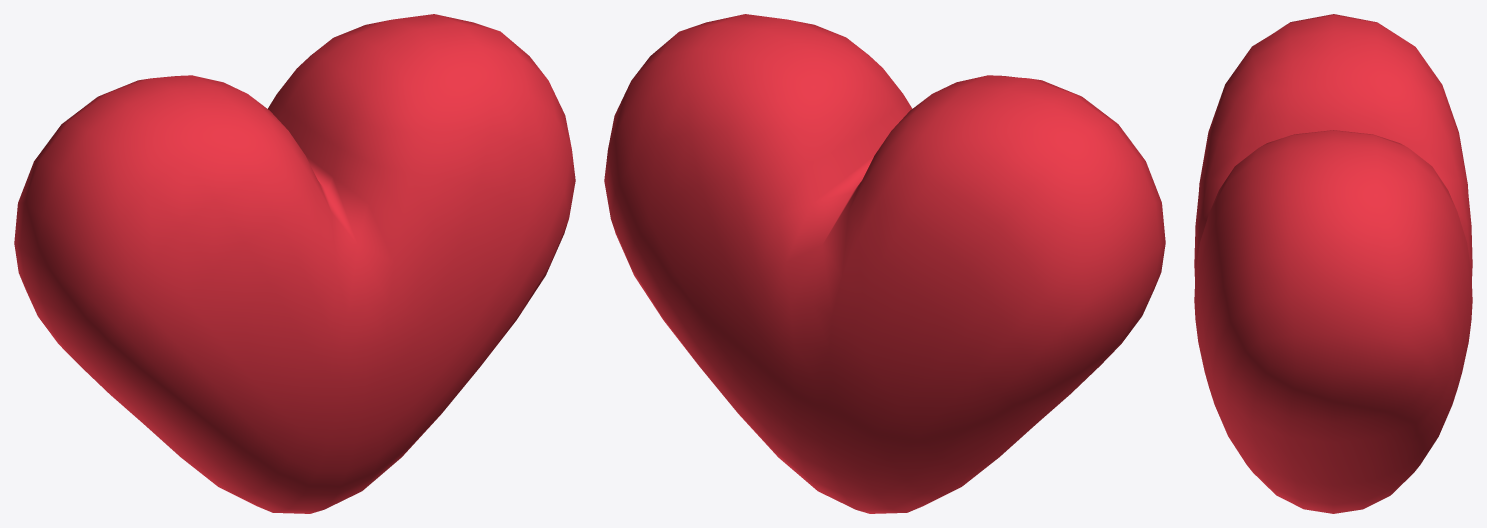
The model's file is heart.glb.
The picture shows the model from 3 angles, left to right: view 1: azimuth 30°, elevation 25°; view 2: azimuth 150°, elevation 25°; view 3: azimuth 270°, elevation 25°; orthographic projection. The views are drawn at different scales.
Parts seen in each view (by area): view 1: Heart; view 2: Heart; view 3: Heart.
Boxes of the visible parts, bbox=[...] form: Heart: bbox=[14, 14, 575, 513]; Heart: bbox=[604, 14, 1165, 513]; Heart: bbox=[1194, 14, 1472, 513].
Bounding box in the file's own units: 4 × 3.32 × 2.
